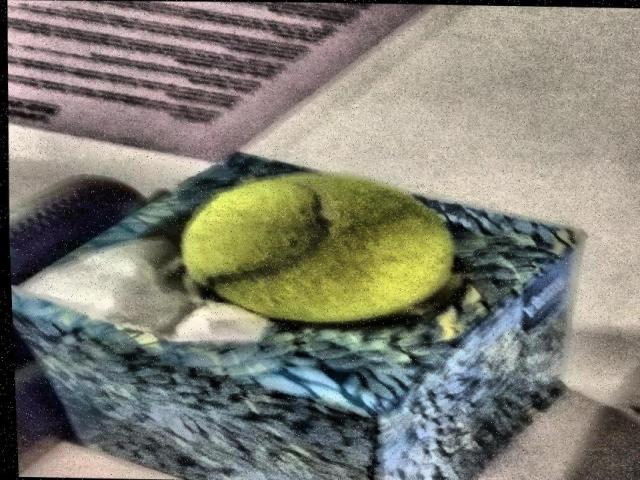tennis-ball: (180, 176, 458, 325)
